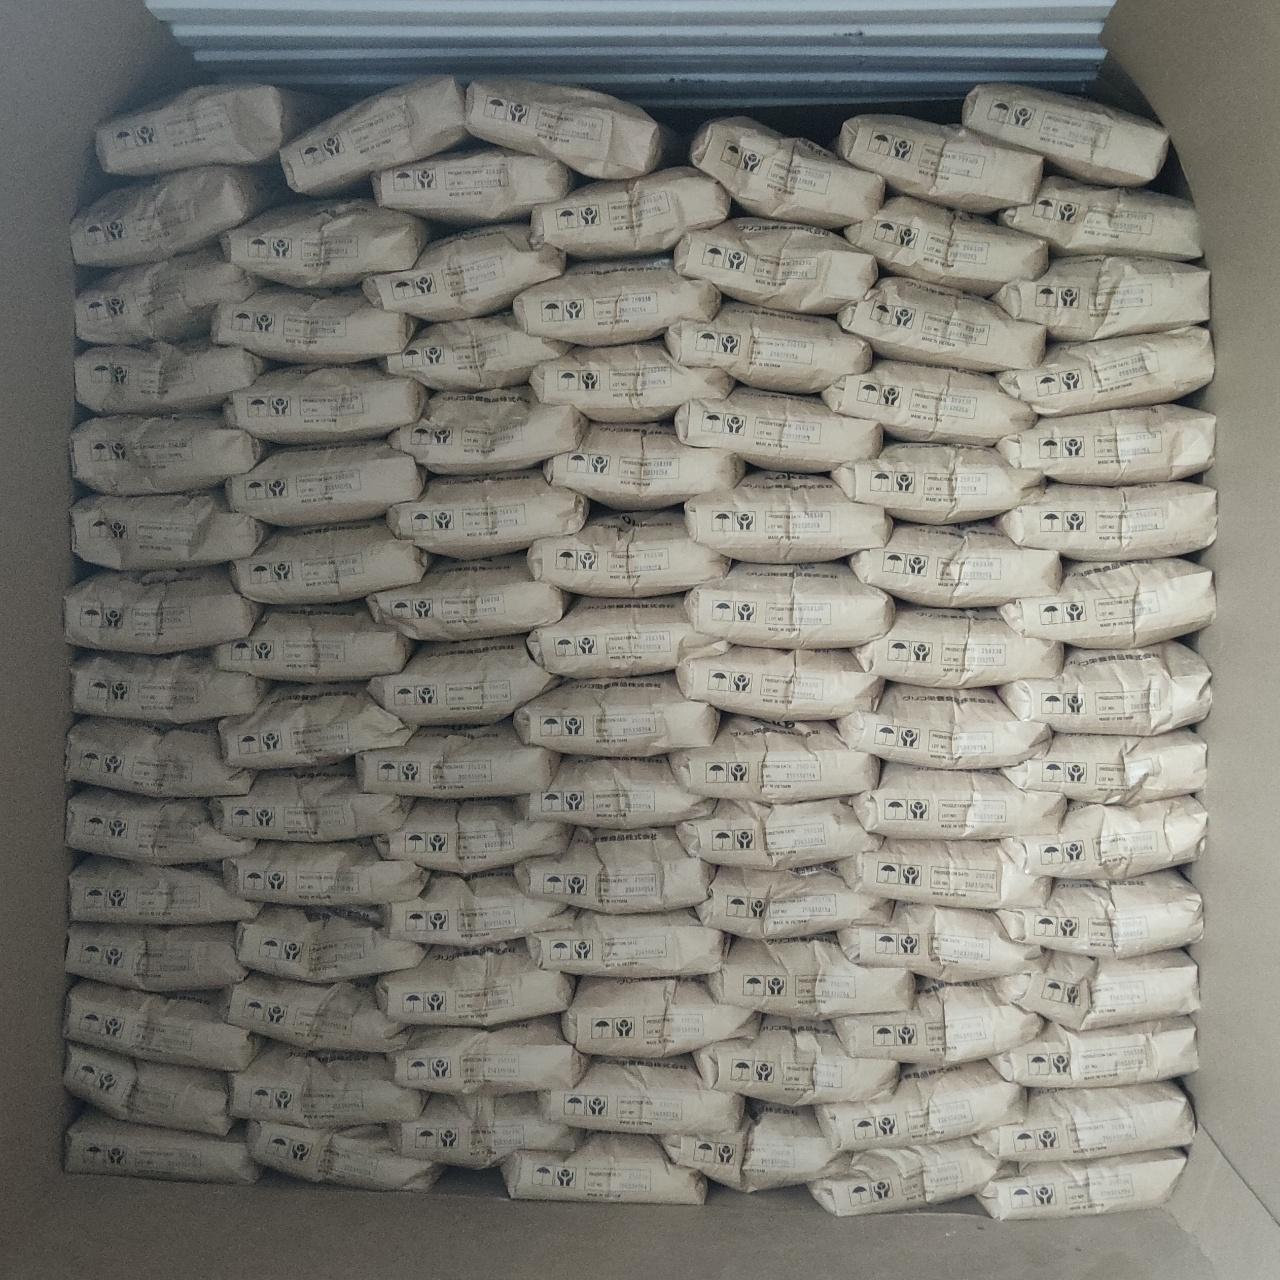sack: (282, 76, 468, 195), (72, 166, 288, 266), (690, 118, 881, 226), (98, 84, 328, 173), (842, 196, 1046, 294), (832, 116, 1040, 212), (962, 84, 1166, 182), (467, 79, 672, 173), (838, 278, 1044, 372), (1000, 644, 1212, 734), (998, 326, 1212, 414), (366, 224, 564, 318), (674, 218, 876, 309), (666, 300, 870, 390), (1000, 560, 1214, 646), (686, 472, 890, 561), (822, 360, 1034, 444), (998, 870, 1201, 956), (79, 246, 263, 342), (224, 200, 430, 286), (532, 166, 730, 256), (836, 982, 1040, 1068), (686, 561, 892, 646), (994, 256, 1206, 338), (850, 524, 1060, 606), (676, 386, 880, 470), (818, 1062, 1022, 1146), (838, 685, 1050, 765), (527, 510, 728, 595), (670, 716, 878, 798), (66, 980, 258, 1068), (1000, 406, 1214, 484), (696, 1020, 896, 1104), (515, 260, 719, 342), (706, 937, 912, 1017), (516, 674, 719, 756), (996, 482, 1214, 558), (1002, 796, 1204, 878), (996, 176, 1198, 258), (855, 606, 1062, 686), (390, 472, 588, 556), (544, 424, 742, 508), (368, 554, 566, 638), (232, 1040, 422, 1126), (66, 568, 263, 652), (978, 1082, 1192, 1158), (988, 949, 1196, 1028), (370, 636, 556, 724), (232, 520, 430, 602), (832, 444, 1042, 522), (850, 762, 1062, 838), (229, 442, 424, 524), (530, 595, 726, 678), (392, 388, 586, 470), (532, 340, 731, 420), (72, 414, 268, 493), (220, 685, 414, 765), (376, 942, 572, 1022), (224, 365, 425, 442), (564, 978, 756, 1058), (516, 830, 710, 910), (663, 1107, 846, 1190), (840, 904, 1040, 980), (540, 1058, 742, 1133), (72, 490, 268, 566), (215, 602, 414, 678), (836, 838, 1048, 908), (390, 1016, 586, 1092), (212, 288, 414, 362), (374, 148, 576, 222), (358, 722, 558, 796), (678, 646, 880, 719), (810, 1141, 1008, 1214), (66, 1044, 230, 1133), (66, 719, 254, 796), (218, 974, 408, 1050), (212, 765, 410, 838), (502, 1133, 704, 1204), (1005, 730, 1204, 802), (66, 1108, 258, 1182), (990, 1016, 1196, 1085), (72, 651, 270, 722), (976, 1150, 1182, 1218), (380, 314, 568, 388), (678, 799, 878, 869), (382, 872, 570, 946), (68, 787, 252, 862), (390, 1094, 580, 1166), (697, 866, 888, 938), (377, 798, 568, 870), (236, 906, 420, 980), (76, 340, 266, 411), (518, 758, 712, 826), (248, 1122, 438, 1190), (530, 908, 726, 974), (220, 840, 425, 903), (70, 856, 258, 922), (66, 924, 246, 990)
